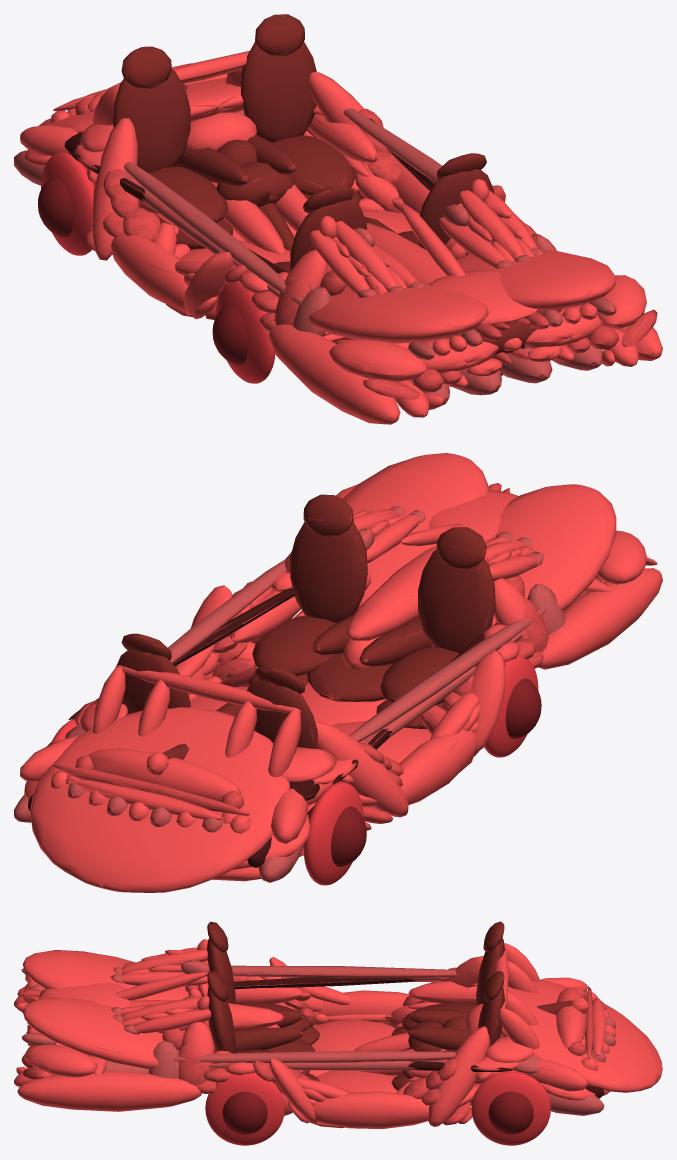
The model's file is ZBR-RED-v8.glb.
3 views of the same model, one above another, from view 1: azimuth 30°, elevation 25°; view 2: azimuth 150°, elevation 25°; view 3: azimuth 270°, elevation 25° (orthographic). The views are drawn at different scales.
Visible parts, largest first — view 1: ZBR-RED, Merged Objects 15; view 2: ZBR-RED, Merged Objects 15; view 3: ZBR-RED, Merged Objects 15.
Part boxes in pixels (box(x1,y1,x2,y2)): ZBR-RED: box(14, 14, 662, 424); Merged Objects 15: box(37, 129, 316, 383); ZBR-RED: box(14, 453, 662, 892); Merged Objects 15: box(47, 638, 541, 885); ZBR-RED: box(14, 921, 662, 1128); Merged Objects 15: box(205, 998, 550, 1145).
Size of the model in its own units: 1.92 by 1.11 by 4.43.
Materials: 2 (2 with a texture image).
